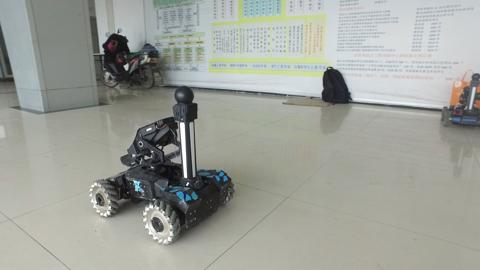bag: (313, 61, 354, 111)
chariot: (80, 79, 245, 244), (438, 67, 480, 142)
